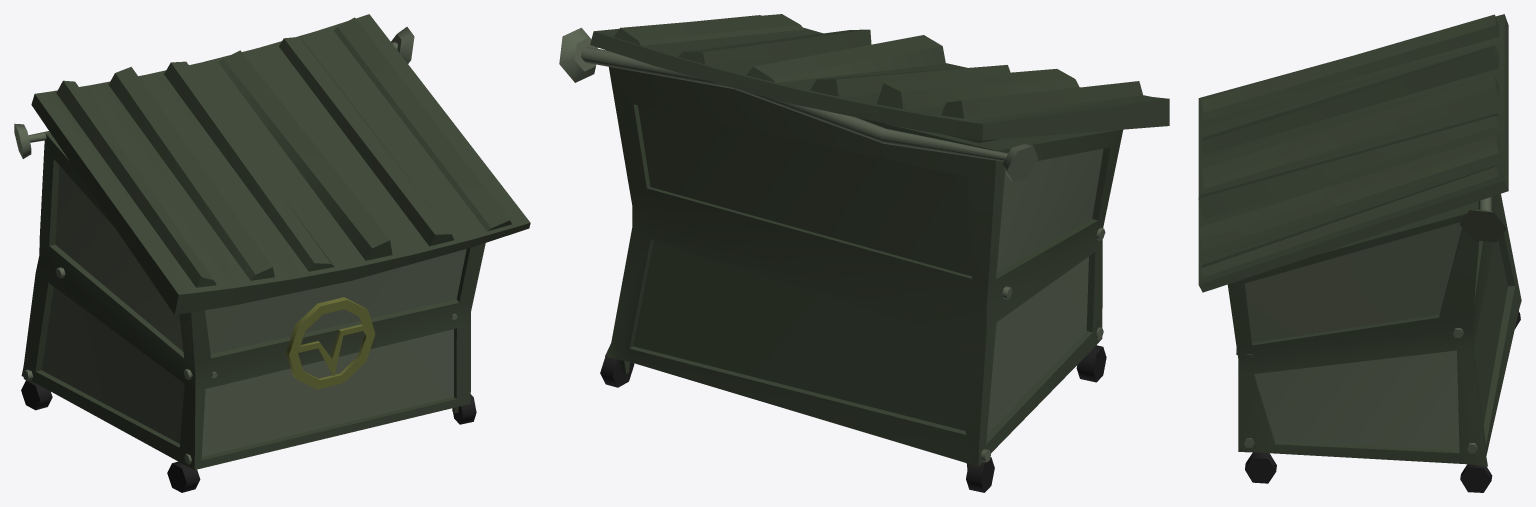
File: Dumpster.fbx
The picture shows the model from 3 angles, left to right: view 1: azimuth 30°, elevation 25°; view 2: azimuth 150°, elevation 25°; view 3: azimuth 270°, elevation 25°; orthographic projection. The views are drawn at different scales.
Parts seen in each view (by area): view 1: Dumpster; view 2: Dumpster; view 3: Dumpster.
Boxes of the visible parts, x1,y1,x2,y2 form: Dumpster: (14,14,530,492); Dumpster: (559,14,1169,492); Dumpster: (1198,14,1521,492).
Bounding box in the file's own units: 3.87 × 3.02 × 2.71.
